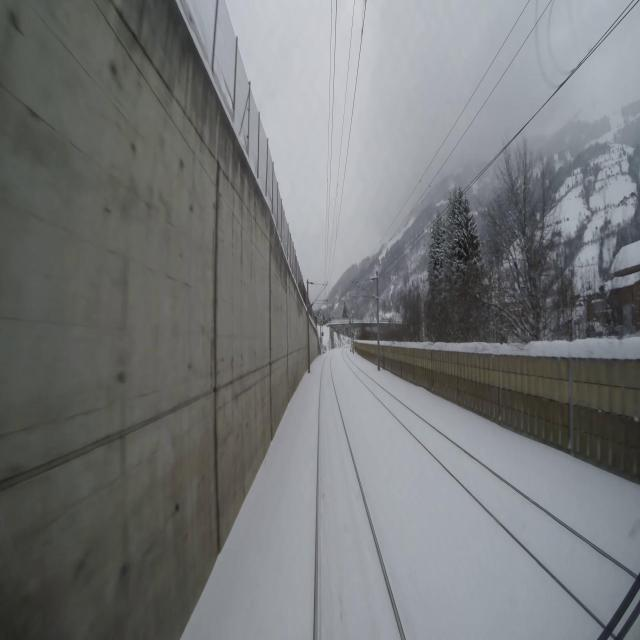rail-track: (344, 351, 635, 622), (318, 355, 400, 639)
